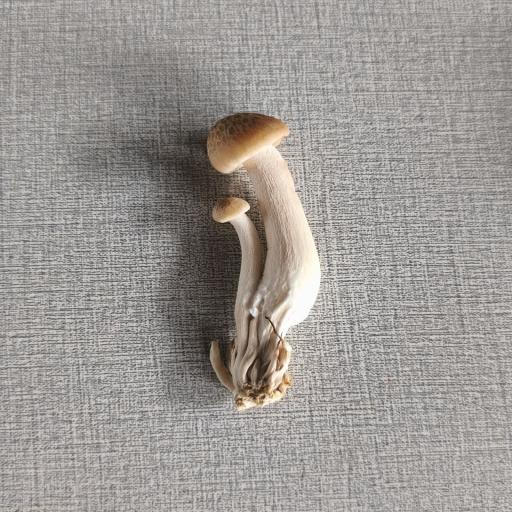Enoki Mushroom: (163, 91, 350, 425)
